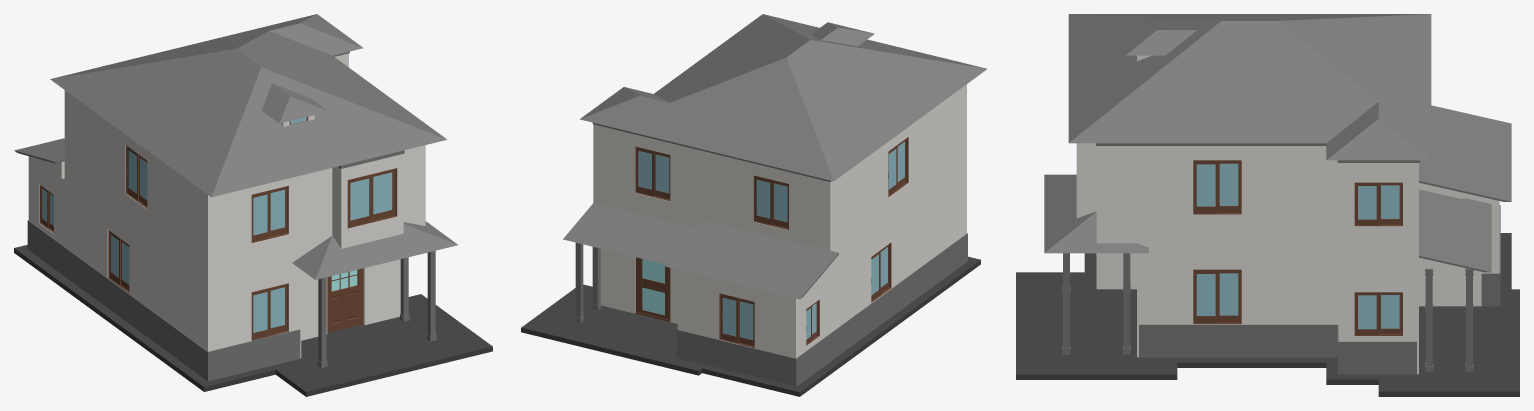
The model's file is task-21-x.obj.
3 renders of one model, left to right at view 1: azimuth 30°, elevation 25°; view 2: azimuth 150°, elevation 25°; view 3: azimuth 270°, elevation 25°, orthographic. The views are drawn at different scales.
Visible parts, largest first — view 1: wall, roof_2, ground_base, wall_2, roof_5, roof_4, door_frame_1, roof_3, window_glass_6, window_glass_7, window_glass_0, window_frame_6 (+11 smaller); view 2: wall, roof_2, ground_base, wall_2, roof_1, roof_0, roof_4, door_frame_0, window_glass_2, window_glass_9, window_glass_12, door_glass_0 (+11 smaller); view 3: wall, roof_2, ground_base, wall_2, roof_1, roof_4, roof_0, roof_5, window_glass_11, window_glass_5, roof_3, window_glass_4 (+10 smaller).
Boxes of the visible parts, left/top/right/bottom form: wall: left=28, top=53, right=425, bottom=358; roof_2: left=50, top=31, right=447, bottom=197; ground_base: left=14, top=245, right=492, bottom=396; wall_2: left=27, top=220, right=300, bottom=381; roof_5: left=292, top=221, right=457, bottom=279; roof_4: left=203, top=14, right=363, bottom=55; door_frame_1: left=327, top=268, right=363, bottom=333; roof_3: left=261, top=83, right=328, bottom=123; window_glass_6: left=350, top=172, right=392, bottom=220; window_glass_7: left=253, top=189, right=284, bottom=235; window_glass_0: left=253, top=287, right=284, bottom=332; window_frame_6: left=347, top=168, right=396, bottom=228; wall: left=593, top=84, right=966, bottom=358; roof_2: left=610, top=14, right=987, bottom=181; ground_base: left=521, top=256, right=980, bottom=396; wall_2: left=676, top=233, right=967, bottom=386; roof_1: left=664, top=219, right=838, bottom=299; roof_0: left=563, top=203, right=695, bottom=264; roof_4: left=580, top=87, right=688, bottom=145; door_frame_0: left=635, top=257, right=670, bottom=321; window_glass_2: left=722, top=297, right=753, bottom=339; window_glass_9: left=756, top=179, right=787, bottom=222; window_glass_12: left=638, top=150, right=669, bottom=193; door_glass_0: left=642, top=259, right=664, bottom=315; wall: left=1076, top=55, right=1499, bottom=374; roof_2: left=1068, top=14, right=1431, bottom=143; ground_base: left=1016, top=233, right=1519, bottom=396; wall_2: left=1096, top=205, right=1500, bottom=374; roof_1: left=1419, top=105, right=1511, bottom=201; roof_4: left=1326, top=97, right=1431, bottom=160; roof_0: left=1419, top=189, right=1491, bottom=272; roof_5: left=1044, top=174, right=1148, bottom=253; window_glass_11: left=1196, top=163, right=1238, bottom=206; window_glass_5: left=1196, top=273, right=1238, bottom=315; roof_3: left=1125, top=28, right=1196, bottom=55; window_glass_4: left=1358, top=295, right=1399, bottom=329.
Size of the model in its own units: 9.3 by 7.73 by 12.5.
